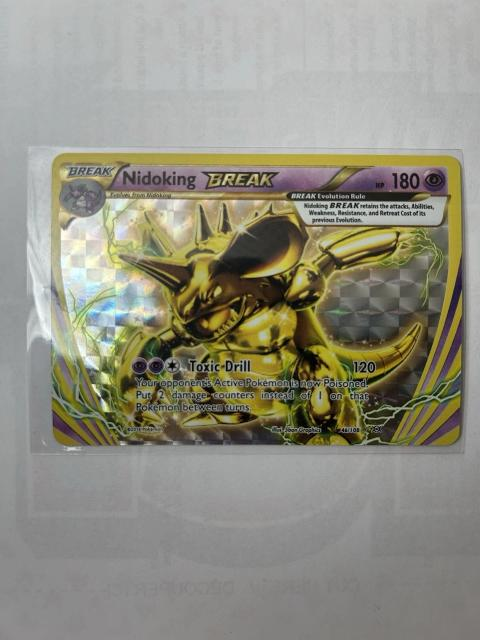Card: (48, 150, 464, 451)
Name: (112, 165, 286, 193)
